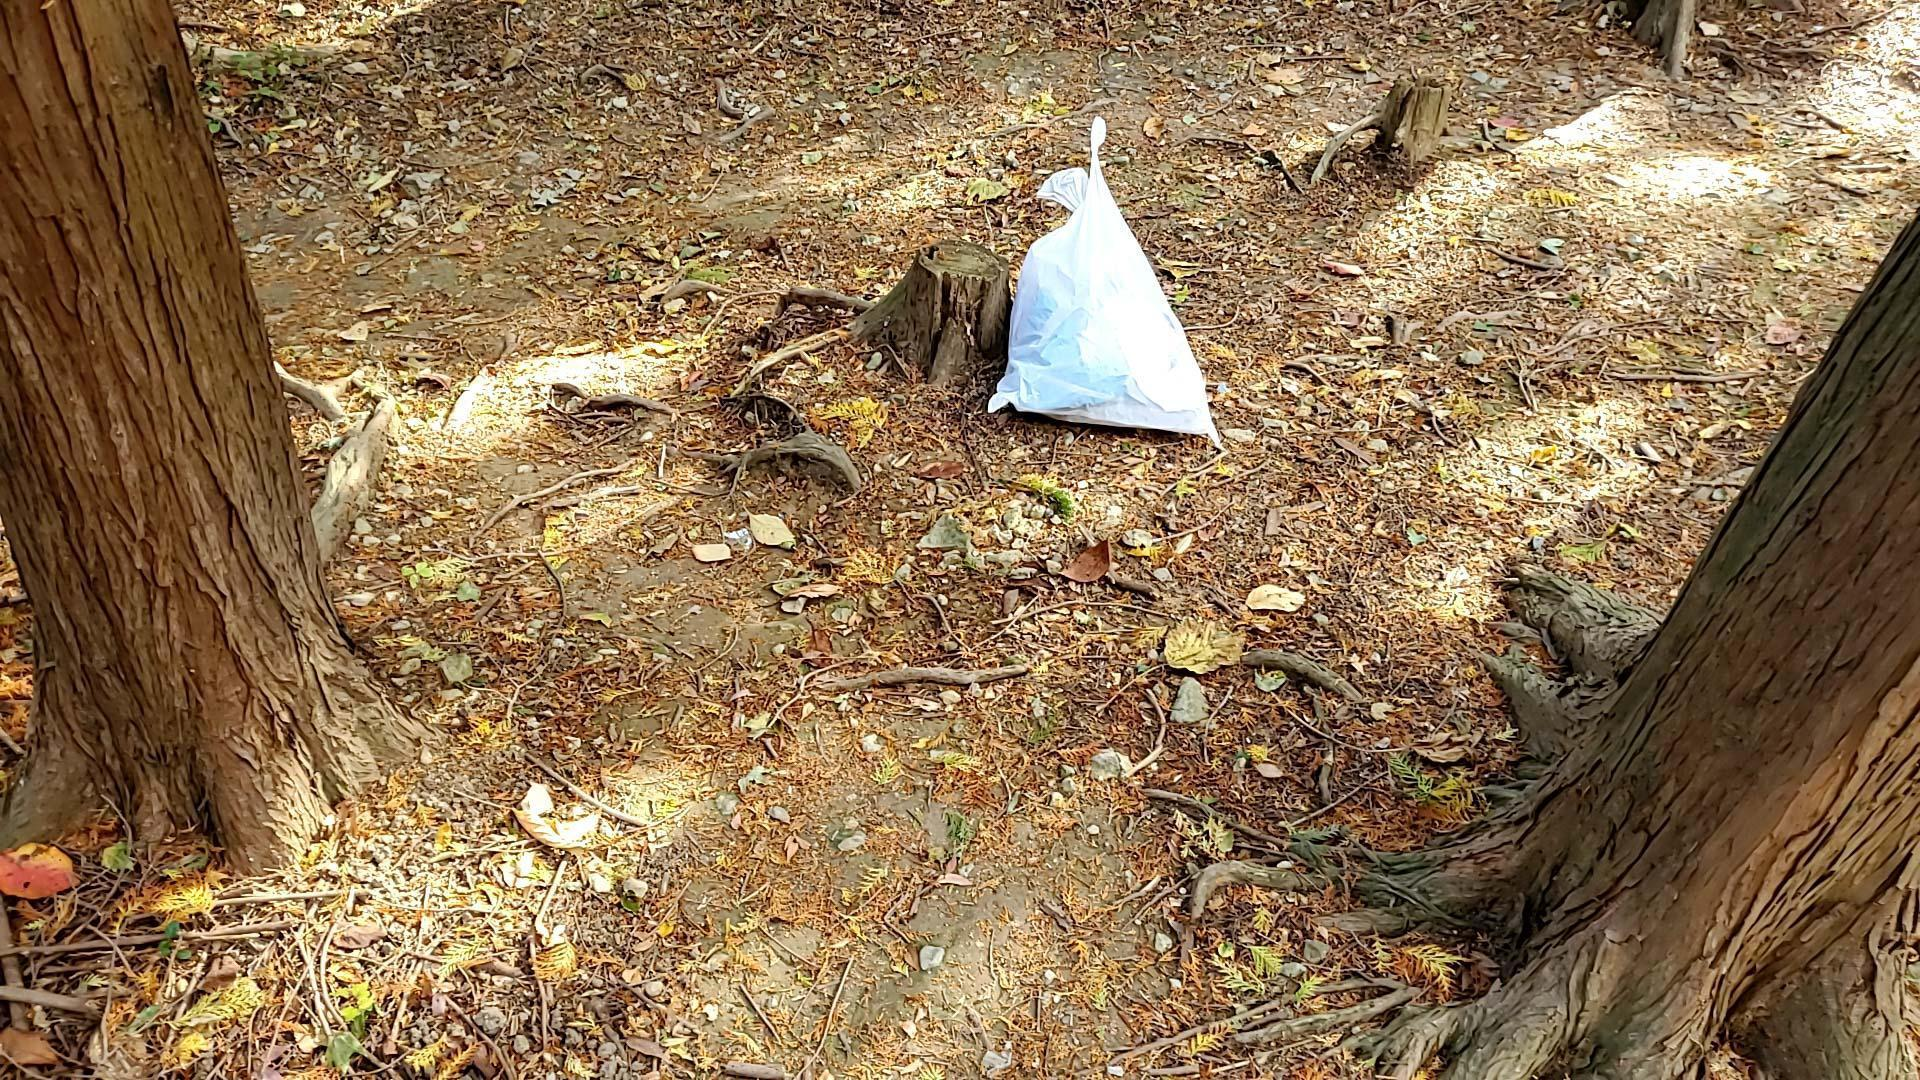white_bag: (969, 111, 1240, 460)
